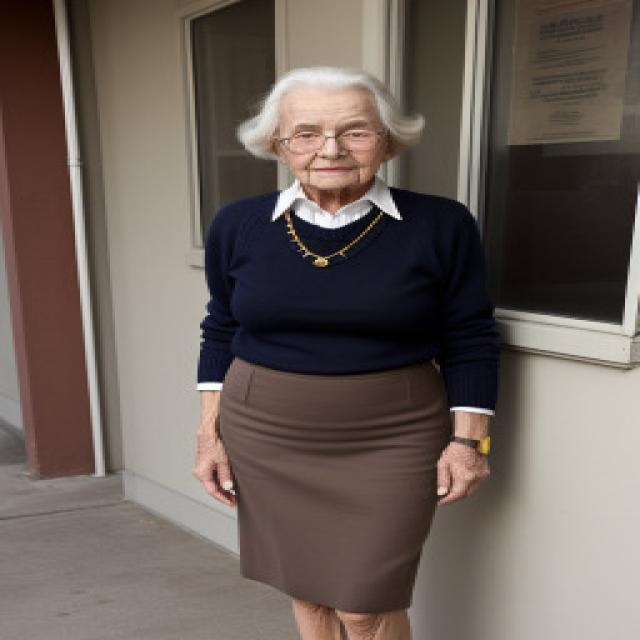Ai human 2: (180, 55, 529, 640)
